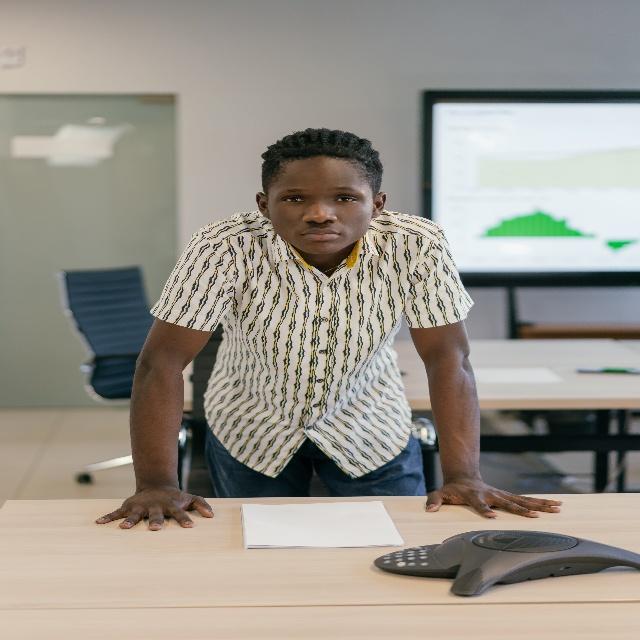Sin_guantes: (426, 480, 563, 518), (95, 489, 215, 531)
